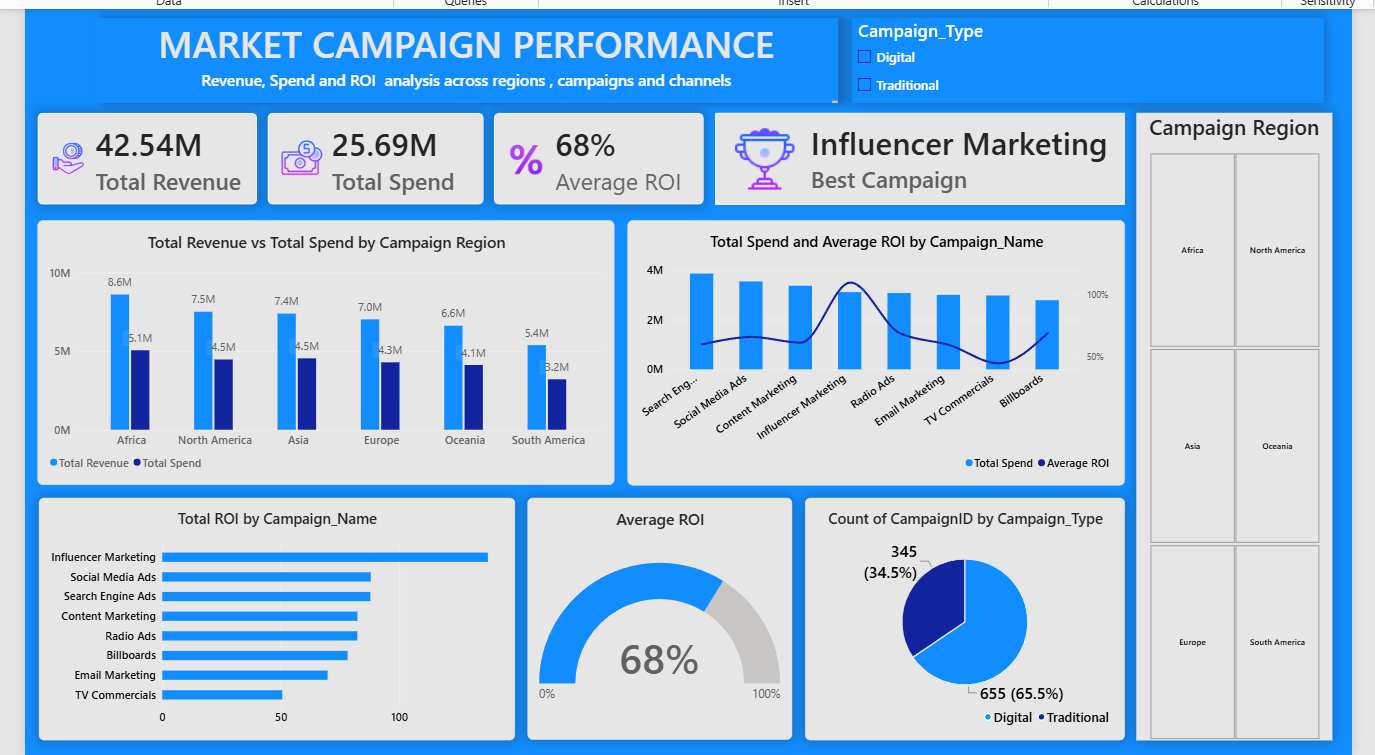

This screenshot's page, from the dashboard's own definition file:
{"tool":"powerbi","page":{"name":"Page 1","canvas":[1920,1080],"ordinal":0},"visuals":[{"type":"lineClusteredColumnComboChart","fields":{"Category":["marketing campaign details.Campaign_Name"],"Y":["marketing campaign performance.Total Spend"],"Y2":["marketing campaign performance.Average ROI"]},"box":[872.3,305.8,720.2,383.6],"z":1000},{"type":"clusteredBarChart","fields":{"Category":["marketing campaign details.Campaign_Name"],"Y":["marketing campaign performance.Total ROI"]},"box":[19.9,707.6,689.5,351.1],"z":2000},{"type":"pieChart","fields":{"Category":["marketing campaign details.Campaign_Type"],"Y":["CountNonNull(marketing campaign performance.CampaignID)"]},"box":[1129.2,707.6,463.3,351.1],"z":3000},{"type":"cardVisual","title":"Total Revenue","fields":{"Data":["marketing campaign performance.Total Revenue"]},"box":[18.1,150.2,318.5,133.9],"z":5000},{"type":"cardVisual","title":"Total Spend","fields":{"Data":["marketing campaign performance.Total Spend"]},"box":[351.1,150.2,313.1,133.9],"z":6000},{"type":"cardVisual","title":"Average ROI","fields":{"Data":["marketing campaign performance.Average ROI"]},"box":[678.6,150.2,304,133.9],"z":7000},{"type":"cardVisual","title":"Best Campaign","fields":{"Data":["marketing campaign performance.Best Campaign"]},"box":[998.9,150.2,593.6,133.9],"z":8000},{"type":"slicer","fields":{"Values":["marketing campaign details.Campaign_Type"]},"box":[1198,12.7,682.2,123.1],"z":9000},{"type":"textbox","box":[43,0,420,150],"z":10000},{"type":"textbox","title":"MARKET CAMPAIGN PERFORMANCE","box":[101.3,12.7,1074.9,123.1],"z":11000},{"type":"slicer","title":"Campaign Region","fields":{"Values":["marketing campaign performance.Campaign_Region"]},"box":[1608.8,150.2,284.1,908.4],"z":12000},{"type":"image","box":[0,12.7,202.7,123.1],"z":13000},{"type":"gauge","fields":{"Y":["marketing campaign performance.Average ROI"]},"box":[727.2,707.7,383.1,350.6],"z":13002},{"type":"clusteredColumnChart","title":"Total Revenue vs Total Spend by Campaign Region","fields":{"Category":["marketing campaign performance.Campaign_Region"],"Y":["marketing campaign performance.Total Revenue","marketing campaign performance.Total Spend"]},"box":[17.3,305.1,835.4,383.1],"z":13003}]}

Visuals, with their boxes in screenshot pixels (x1, y1, x2, y2):
lineClusteredColumnComboChart - marketing campaign details.Campaign_Name x marketing campaign performance.Total Spend: [623, 215, 1120, 479]
clusteredBarChart - marketing campaign details.Campaign_Name x marketing campaign performance.Total ROI: [35, 492, 511, 734]
pieChart - marketing campaign details.Campaign_Type x CountNonNull(marketing campaign performance.CampaignID): [801, 492, 1120, 734]
"Total Revenue" cardVisual: [34, 107, 254, 200]
"Total Spend" cardVisual: [264, 107, 480, 200]
"Average ROI" cardVisual: [490, 107, 699, 200]
"Best Campaign" cardVisual: [711, 107, 1120, 200]
slicer - marketing campaign details.Campaign_Type: [848, 12, 1319, 97]
textbox: [51, 4, 341, 107]
"MARKET CAMPAIGN PERFORMANCE" textbox: [91, 12, 833, 97]
"Campaign Region" slicer: [1131, 107, 1327, 734]
image: [21, 12, 161, 97]
gauge - marketing campaign performance.Average ROI: [523, 492, 787, 734]
"Total Revenue vs Total Spend by Campaign Region" clusteredColumnChart: [33, 214, 610, 478]
